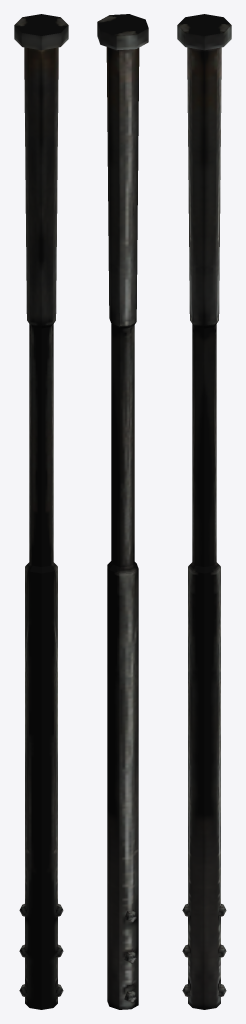
Rendered from Battleaxe_grip_default.FBX.
3 renders of one model, left to right at view 1: azimuth 90°, elevation 25°; view 2: azimuth 210°, elevation 25°; view 3: azimuth 270°, elevation 25°, orthographic.
Parts seen in each view (by area): view 1: Object316; view 2: Object316; view 3: Object316.
Boxes of the visible parts, bbox=[...] form: Object316: bbox=[14, 14, 68, 1009]; Object316: bbox=[97, 14, 148, 1009]; Object316: bbox=[177, 14, 231, 1009].
Bounding box in the file's own units: 8.43 × 174 × 8.7.
1 material, 1 textured.
